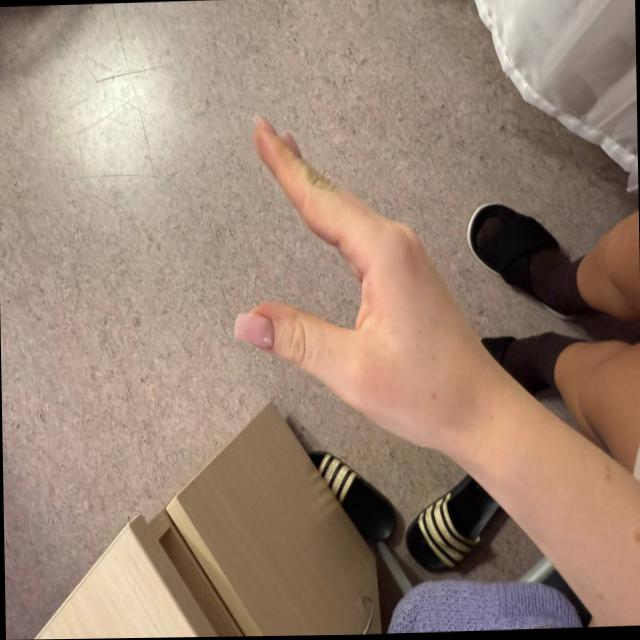s: (211, 101, 475, 430)
